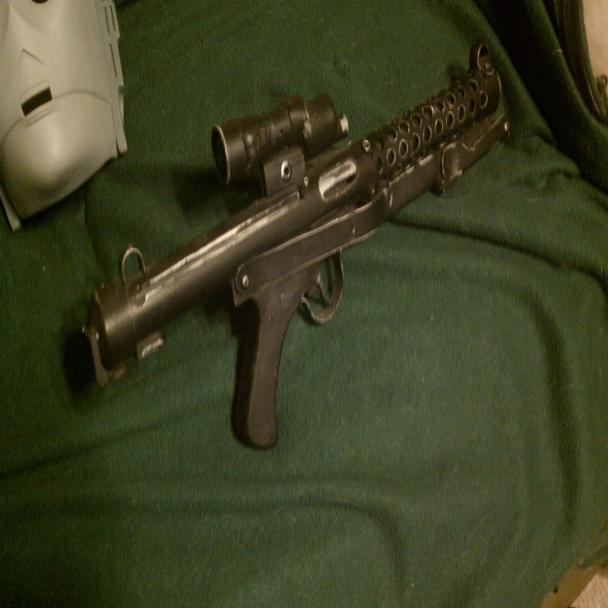Gun: (86, 46, 521, 434)
